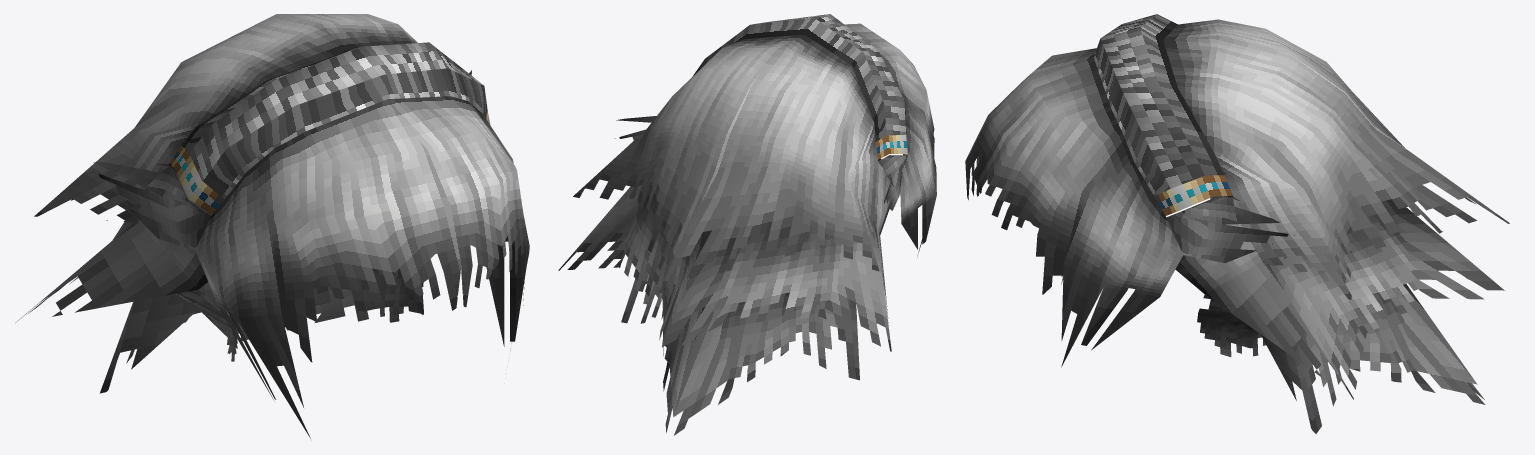
File: f_head005.glb
3 renders of one model, left to right at view 1: azimuth 30°, elevation 25°; view 2: azimuth 150°, elevation 25°; view 3: azimuth 270°, elevation 25°, orthographic. The views are drawn at different scales.
Bounding box in the file's own units: 29.48 × 26.64 × 35.4.
Materials: 1 (1 with a texture image).
